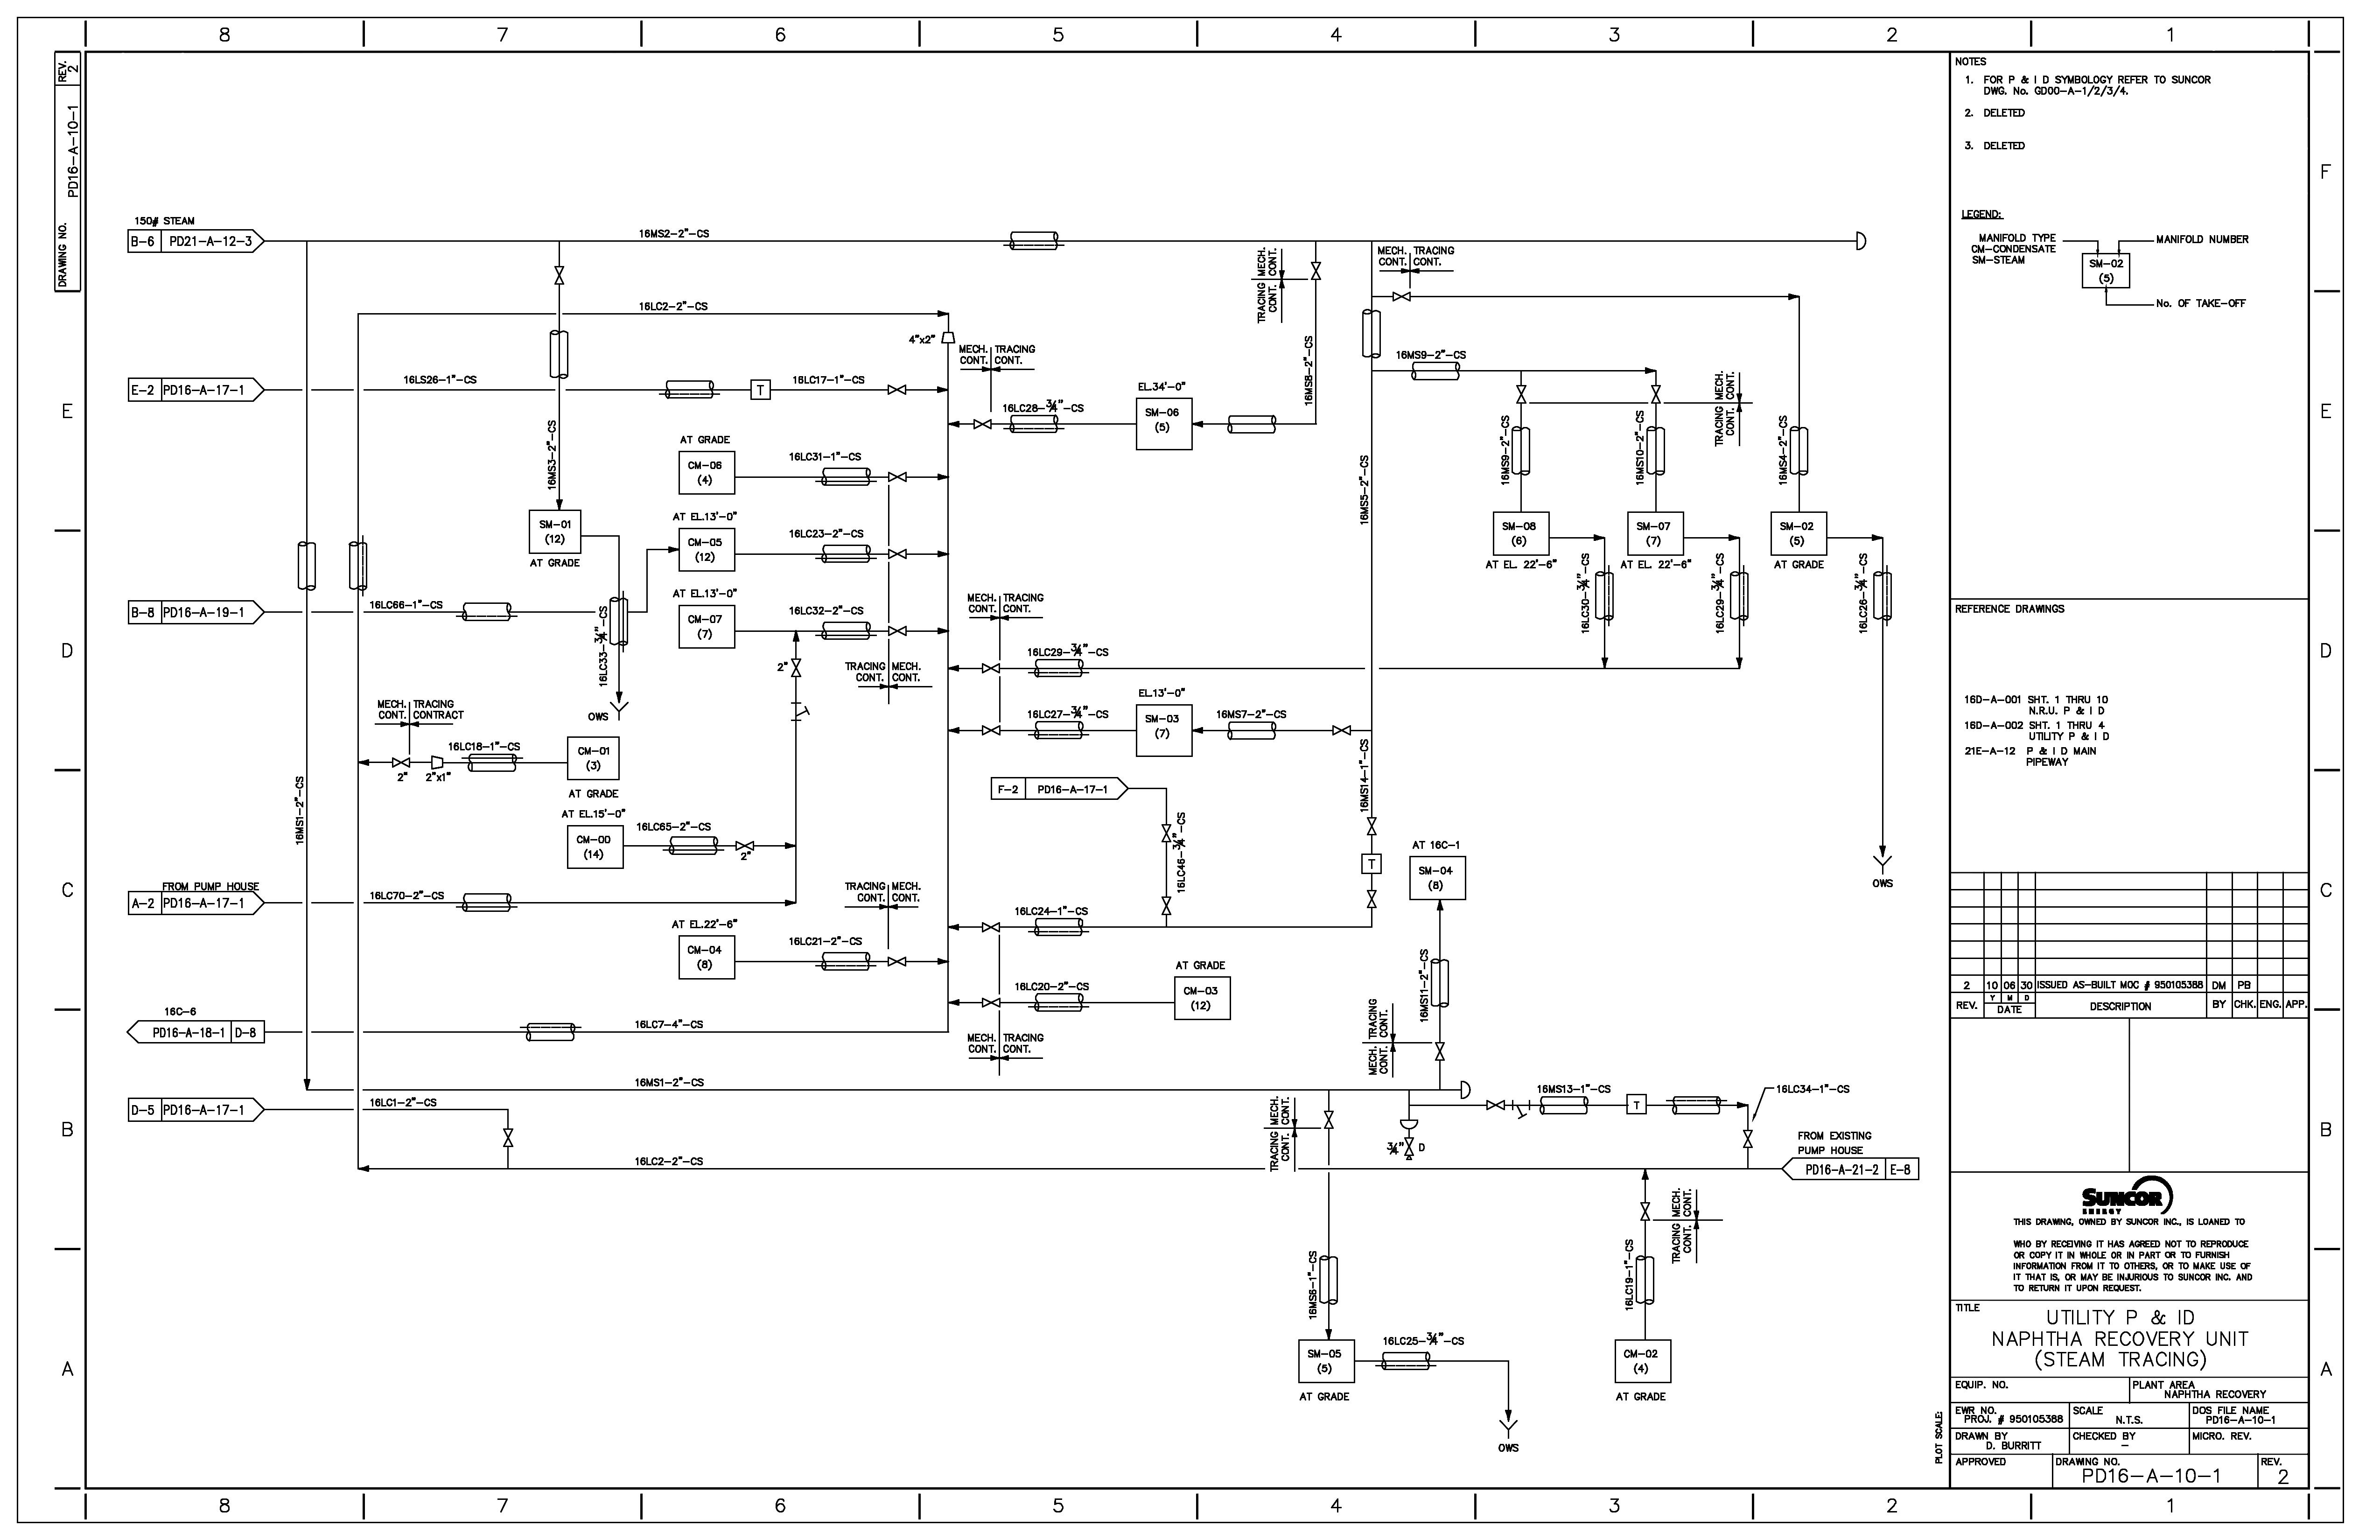Gate Valve: (1483, 1099, 1509, 1112), (1388, 289, 1414, 303), (885, 470, 911, 484), (884, 547, 910, 560), (883, 624, 909, 638), (885, 955, 911, 968), (388, 756, 414, 769), (977, 662, 1003, 675), (979, 724, 1005, 738), (971, 417, 997, 431)
